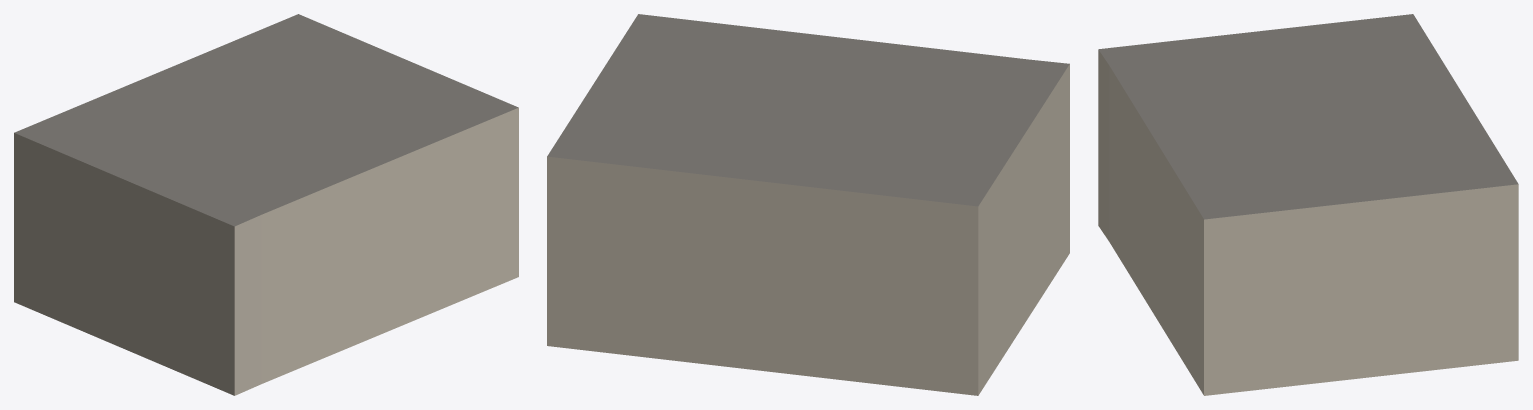
3 renders of one model, left to right at view 1: azimuth 30°, elevation 25°; view 2: azimuth 150°, elevation 25°; view 3: azimuth 270°, elevation 25°, orthographic. The views are drawn at different scales.
Parts seen in each view (by area): view 1: HP-w1156063014; view 2: HP-w1156063014; view 3: HP-w1156063014.
Boxes of the visible parts, x1,y1,x2,y2 form: HP-w1156063014: (14, 14, 518, 395); HP-w1156063014: (547, 14, 1069, 395); HP-w1156063014: (1098, 14, 1518, 395).
Size of the model in its own units: 44.96 by 18 by 38.87.
